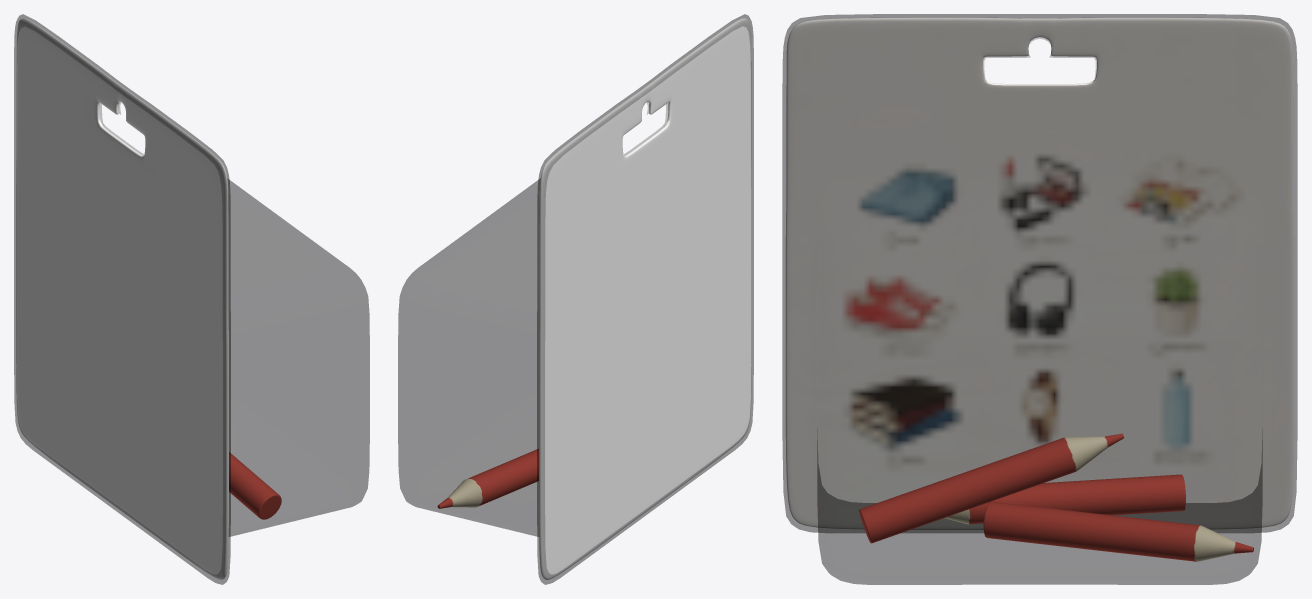
File: exhibitionCheck.glb
3 views of the same model, side by side, from view 1: azimuth 30°, elevation 25°; view 2: azimuth 150°, elevation 25°; view 3: azimuth 270°, elevation 25° (orthographic). The views are drawn at different scales.
Parts seen in each view (by area): view 1: paper.007, plastic.007, pencil1.001; view 2: paper.007, plastic.007, pencil.003; view 3: plastic.007, paper.007, pencil1.001, pencil.003, pencil2.001.
Part boxes in pixels (left/top/right/bottom): paper.007: left=16, top=18, right=228, bottom=579; plastic.007: left=14, top=14, right=369, bottom=584; pencil1.001: left=229, top=452, right=281, bottom=519; paper.007: left=539, top=18, right=751, bottom=579; plastic.007: left=398, top=14, right=753, bottom=584; pencil.003: left=437, top=449, right=538, bottom=508; plastic.007: left=782, top=14, right=1297, bottom=584; paper.007: left=785, top=17, right=1294, bottom=529; pencil1.001: left=859, top=433, right=1124, bottom=543; pencil.003: left=983, top=501, right=1253, bottom=561; pencil2.001: left=944, top=474, right=1185, bottom=524.
Size of the model in its own units: 0.0627 by 0.155 by 0.1393.
Materials: 5 (4 with a texture image).
